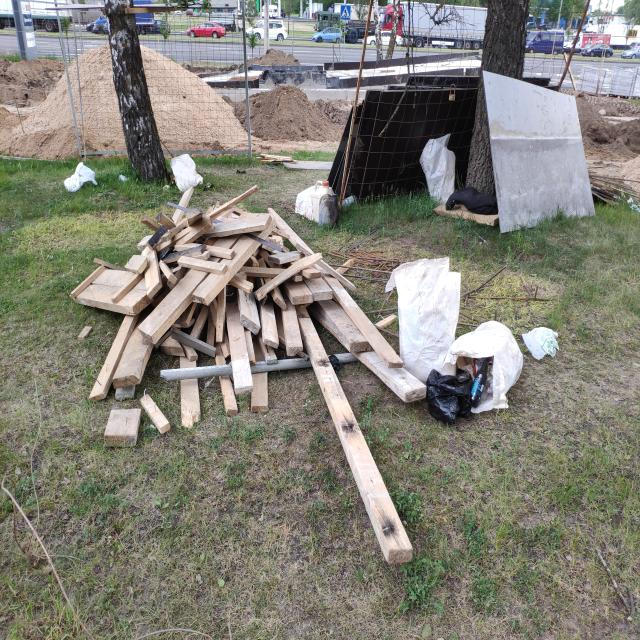entulho: (153, 203, 380, 390), (302, 315, 407, 562), (321, 94, 412, 213), (88, 287, 166, 415), (389, 263, 463, 382), (347, 334, 444, 411), (106, 388, 169, 443), (145, 216, 188, 250)
lixo domiciliar: (430, 348, 495, 422), (521, 326, 559, 359)
restos de madeira: (0, 472, 89, 636), (594, 542, 635, 620), (466, 267, 511, 297)
terra: (21, 34, 247, 141), (241, 85, 347, 144), (569, 92, 640, 164), (0, 56, 67, 112), (248, 48, 302, 67)
